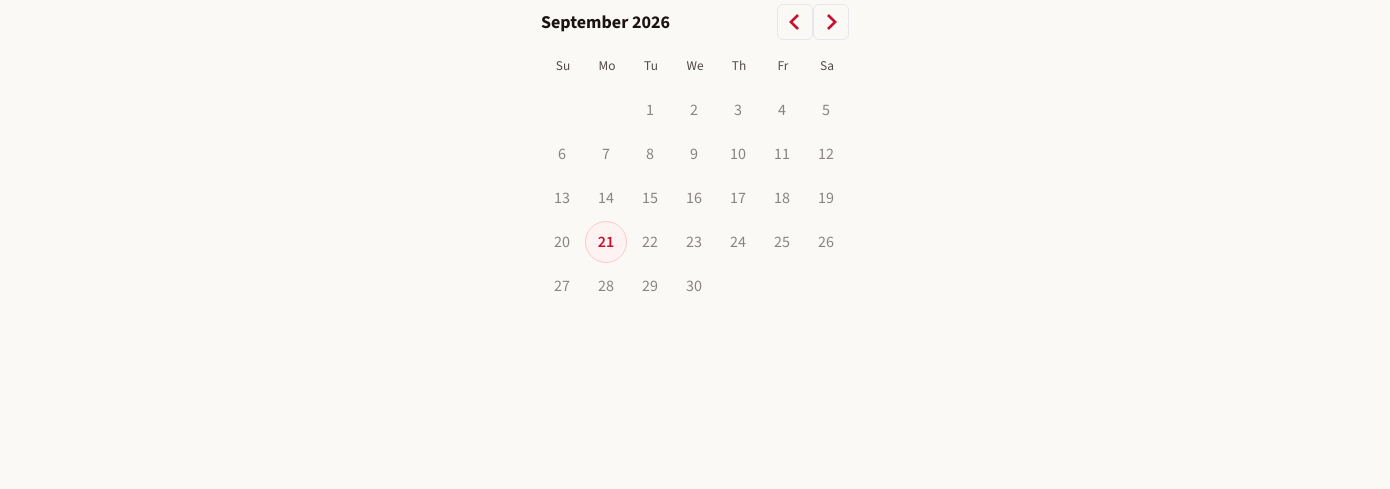
Test: BookingCalendar › enables the confirm button once a time is chosen
What coordinates should you click on to do the following:
click the button named "September 21st, 2026"
I would click on:
 (606, 242)
Its box is [585,221,627,263].
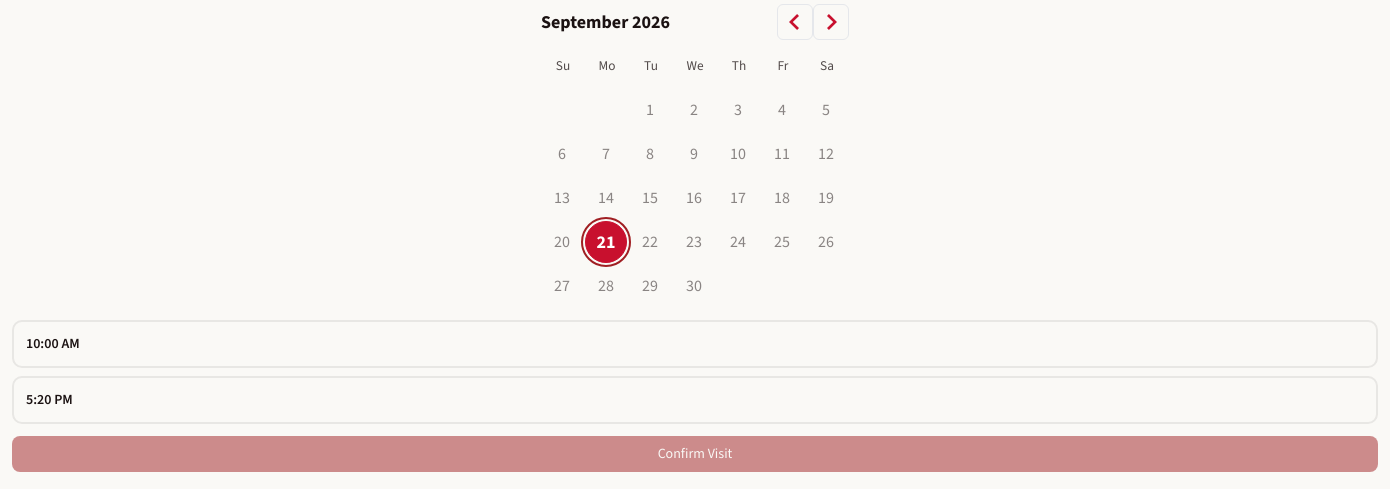
What coordinates should you click on to do the following:
click the button "5:20 PM"
I would click on:
 (49, 400)
Its box is [12,376,1378,424].
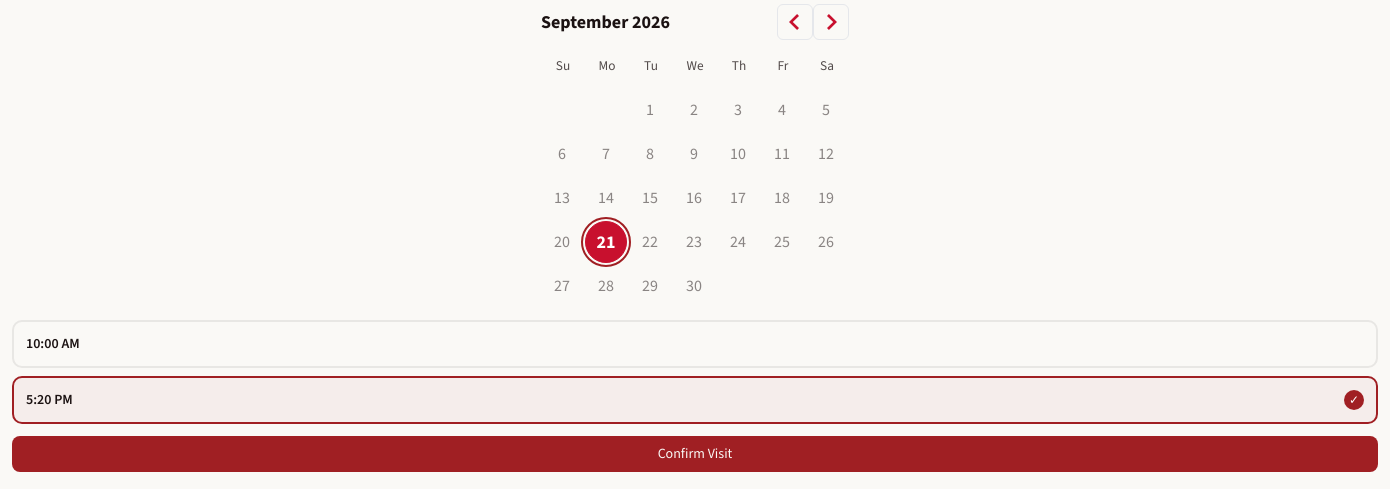
Now the button "Confirm Visit" is enabled, box [12,436,1378,472]
